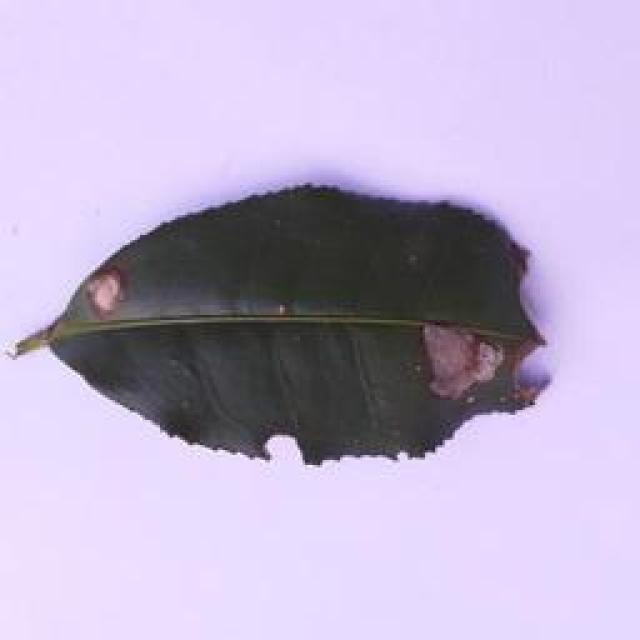Gray Blight: (17, 183, 550, 471)
